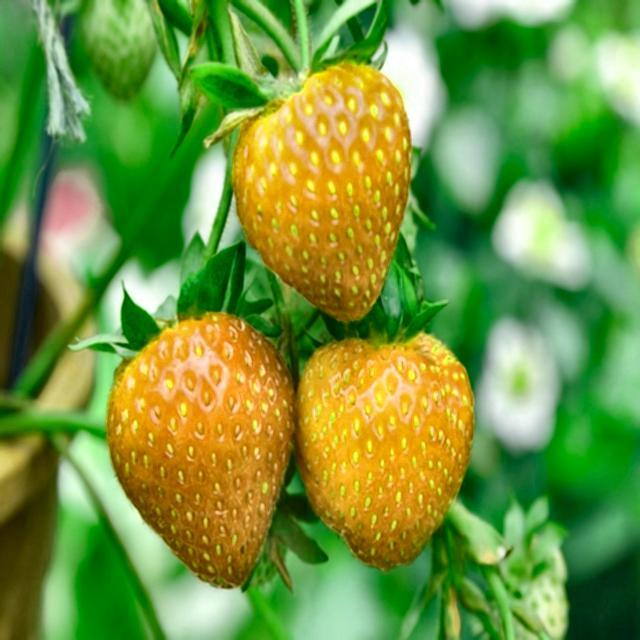strawberry: (108, 312, 294, 588), (232, 62, 411, 321), (298, 332, 474, 569)
